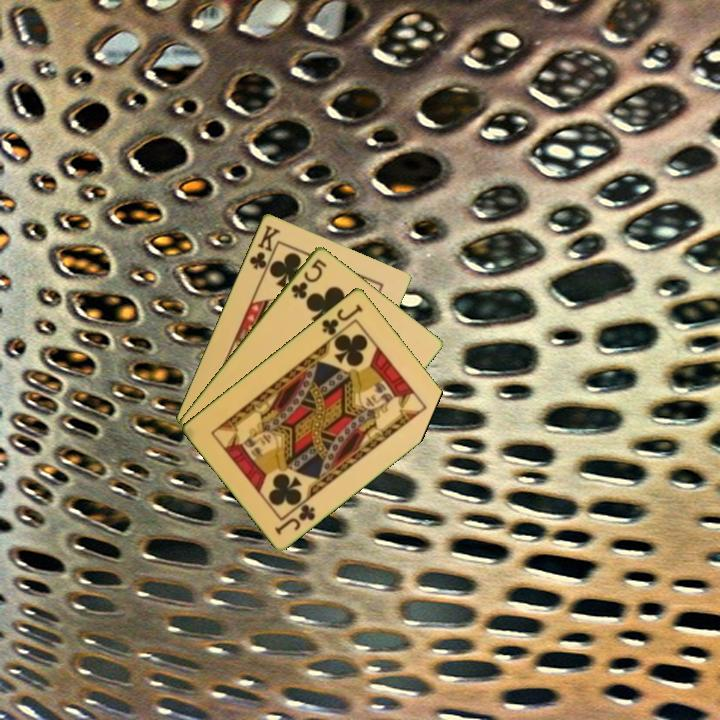5c: (287, 255, 330, 302)
Jc: (318, 300, 366, 338), (271, 500, 319, 537)
Kc: (245, 221, 283, 277)
